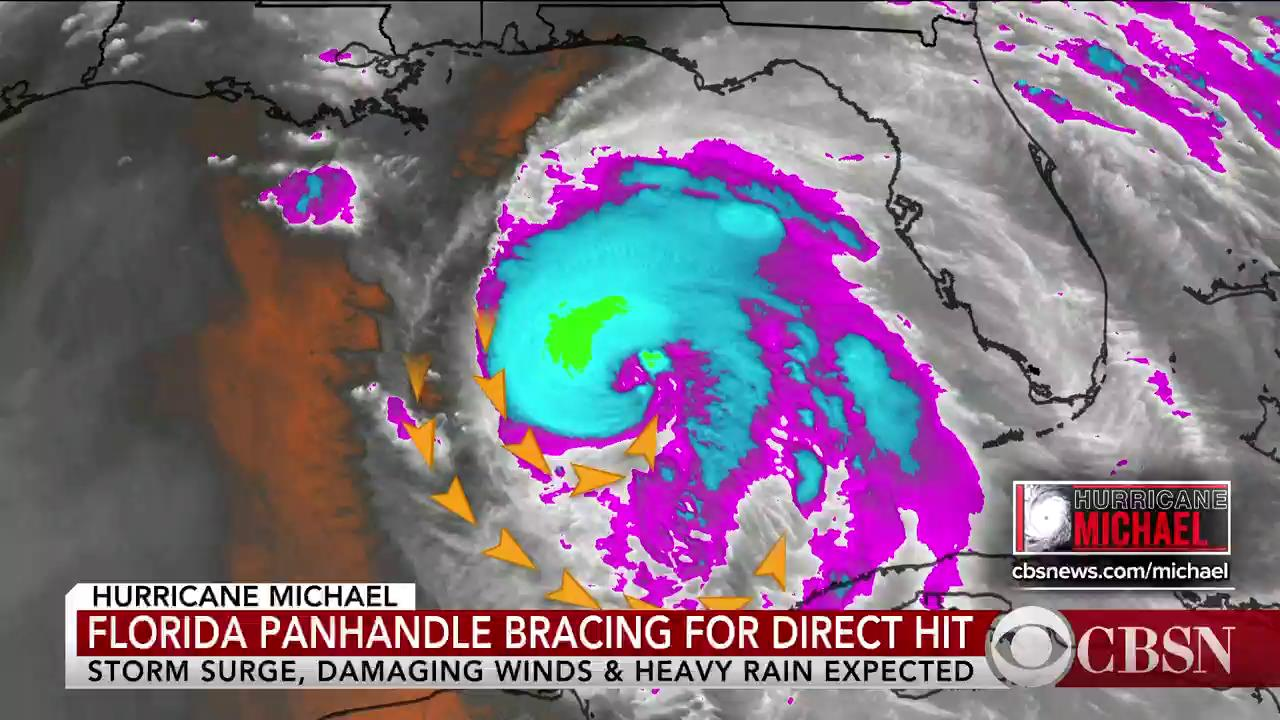CBSN: (1076, 624, 1238, 676)
FLORIDA PANHANDLE BRACING FOR DIRECT HIT: (86, 613, 977, 653)
HURRICANE: (1072, 488, 1225, 508)
HURRICANE MICHAEL: (92, 581, 398, 608)
MICHAEL: (1072, 509, 1207, 547)
STORM SURGE__ DAMAGING WINDS & HEAVY RAIN EXPECTED: (84, 653, 976, 685)
cbsnews.com/michael: (1011, 559, 1229, 584)
